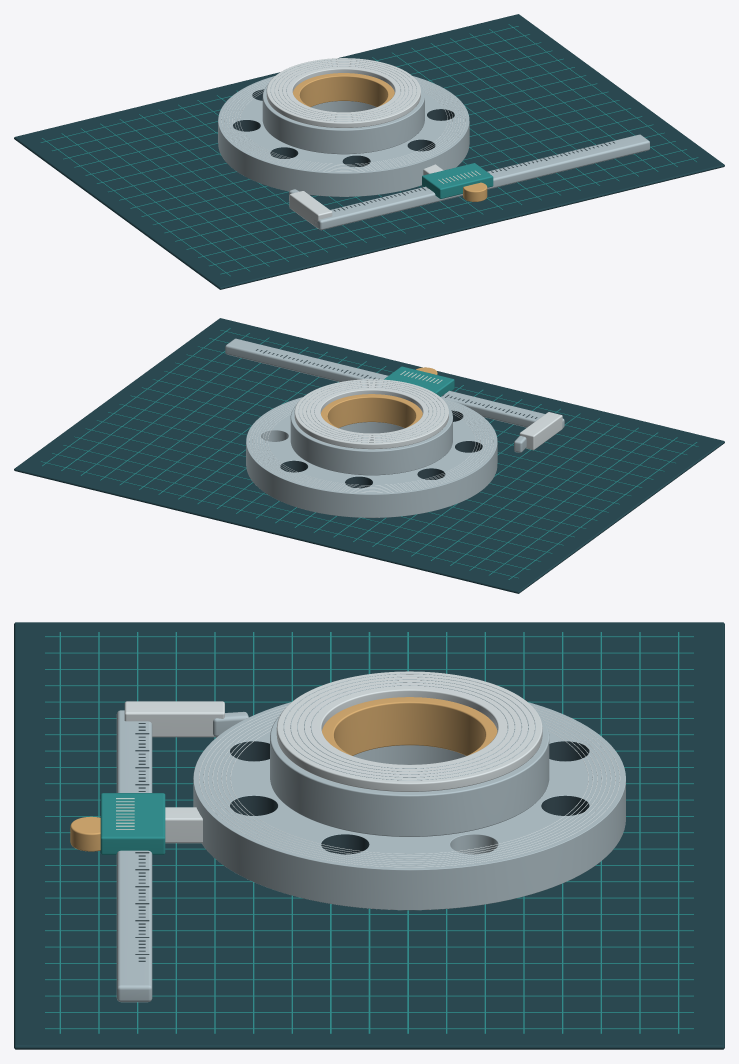
Rendered from workshop.glb.
3 views of the same model, one above another, from view 1: azimuth 30°, elevation 25°; view 2: azimuth 150°, elevation 25°; view 3: azimuth 270°, elevation 25° (orthographic). The views are drawn at different scales.
Visible parts, largest first — view 1: Blueprint, Bearing flange, Upper chamfer, Caliper beam, Raised boss, Counterbore sleeve, Vernier slider, Jaw shoulder, Inscribed line.025, Inscribed line.026; view 2: Blueprint, Bearing flange, Upper chamfer, Raised boss, Caliper beam, Counterbore sleeve, Vernier slider, Jaw shoulder, Inscribed line.041, Inscribed line.040, Inscribed line.025, Inscribed line.039; view 3: Blueprint, Bearing flange, Upper chamfer, Raised boss, Caliper beam, Counterbore sleeve, Vernier slider, Jaw shoulder, Jaw shoulder.001, Inscribed line.001, Inscribed line, Inscribed line.024 (+16 smaller).
Part boxes in pixels (<box>): Blueprint: <box>14,14,724,289</box>; Bearing flange: <box>218,76,469,196</box>; Upper chamfer: <box>266,58,420,127</box>; Caliper beam: <box>314,134,649,230</box>; Raised boss: <box>262,84,424,154</box>; Counterbore sleeve: <box>293,73,394,107</box>; Vernier slider: <box>422,163,493,198</box>; Jaw shoulder: <box>289,191,332,228</box>; Inscribed line.025: <box>220,157,698,274</box>; Inscribed line.026: <box>209,149,686,266</box>; Blueprint: <box>14,318,724,593</box>; Bearing flange: <box>246,397,497,517</box>; Upper chamfer: <box>294,379,448,449</box>; Raised boss: <box>290,405,452,475</box>; Caliper beam: <box>225,338,564,428</box>; Counterbore sleeve: <box>321,394,422,428</box>; Vernier slider: <box>384,366,454,396</box>; Jaw shoulder: <box>519,412,562,450</box>; Inscribed line.041: <box>40,461,518,578</box>; Inscribed line.040: <box>52,453,529,570</box>; Inscribed line.025: <box>220,330,698,446</box>; Inscribed line.039: <box>63,445,540,561</box>; Blueprint: <box>14,622,724,1049</box>; Bearing flange: <box>193,702,625,910</box>; Upper chamfer: <box>276,671,542,791</box>; Raised boss: <box>270,715,549,836</box>; Caliper beam: <box>116,710,152,1002</box>; Counterbore sleeve: <box>322,697,497,755</box>; Vernier slider: <box>100,793,165,854</box>; Jaw shoulder: <box>124,701,224,737</box>; Jaw shoulder.001: <box>165,807,202,843</box>; Inscribed line.001: <box>45,652,693,653</box>; Inscribed line: <box>45,636,693,637</box>; Inscribed line.024: <box>45,1028,693,1029</box>.
Size of the model in its own units: 6.5 by 0.711 by 4.6.
